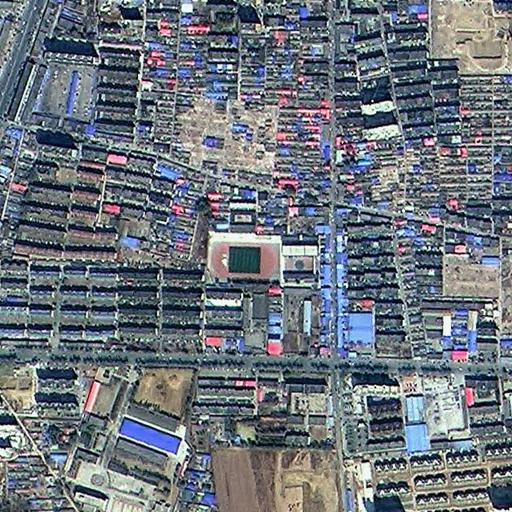school: (206, 229, 320, 284)
